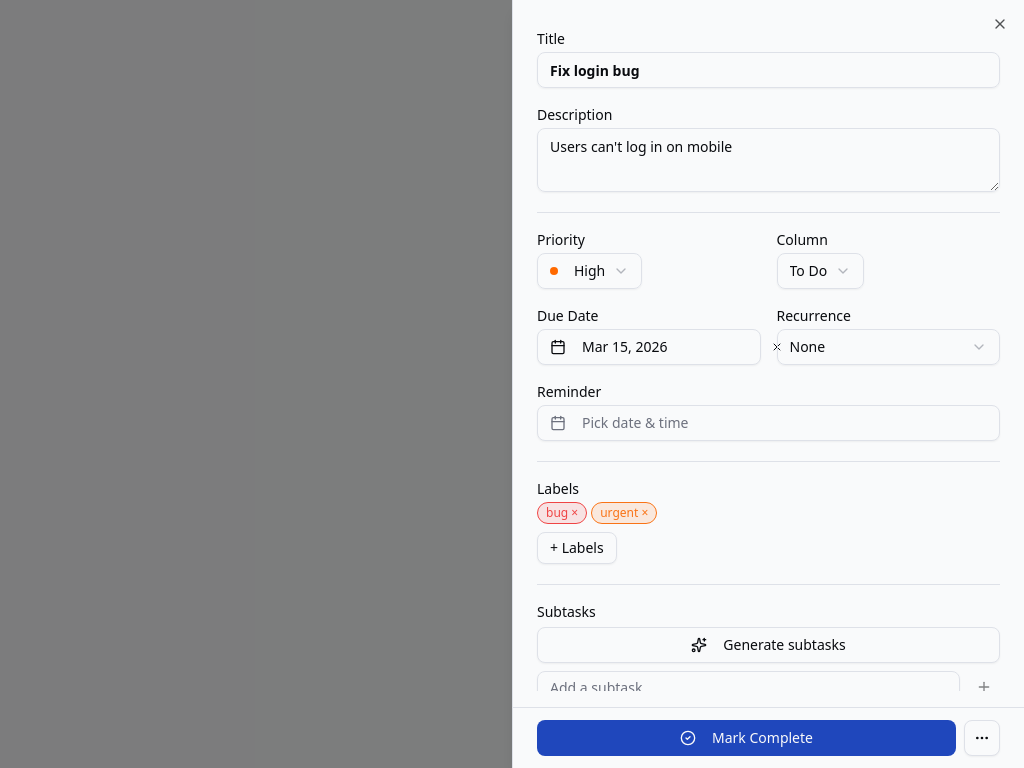
TaskSheet › AI subtask generation › adds generated subtasks to task via dialog flow
# Open the dialog
Click the button "Generate subtasks" at (768, 645), box top-left (537, 627), bottom-right (1000, 663)
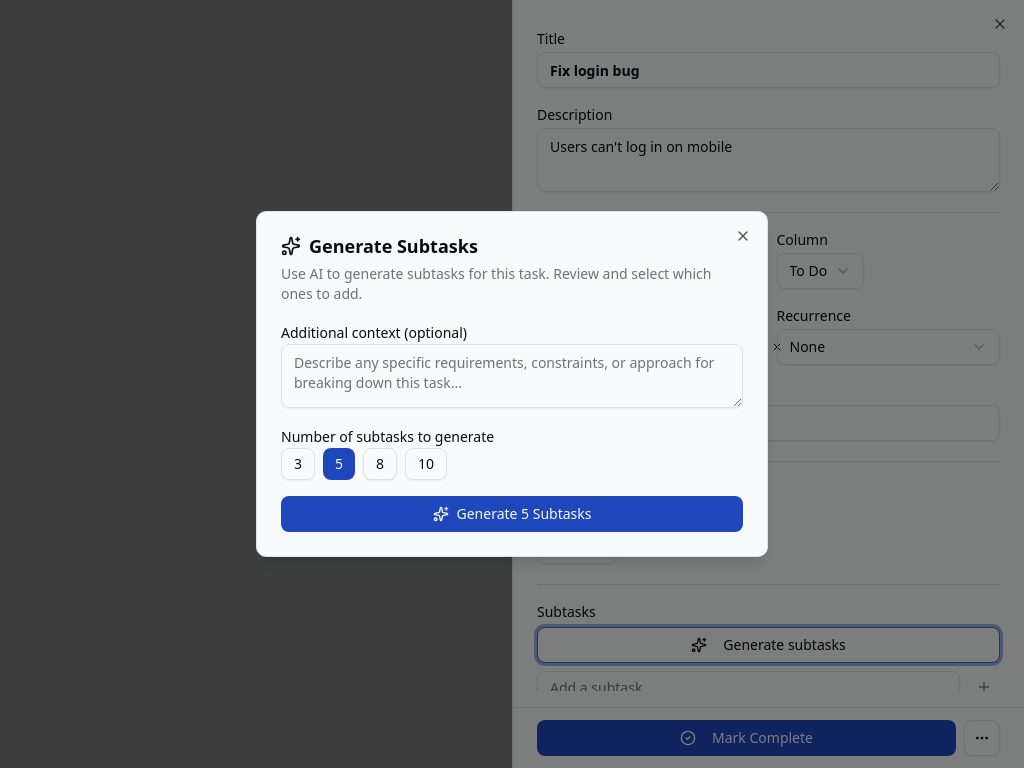
Check: the button "Generate 5 Subtasks" is shown
Click the button "Generate 5 Subtasks" at (512, 514), box top-left (281, 496), bottom-right (743, 532)
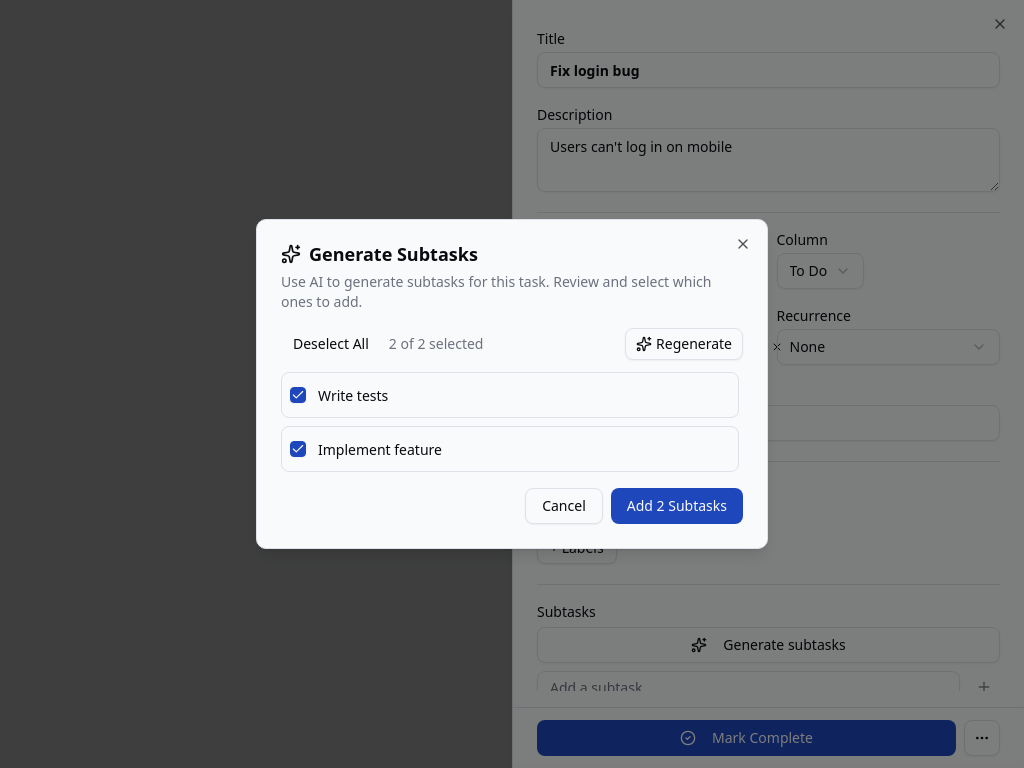
Check: the button "Add 2 Subtasks" is shown
Click the button "Add 2 Subtasks" at (677, 506), box top-left (611, 488), bottom-right (743, 524)
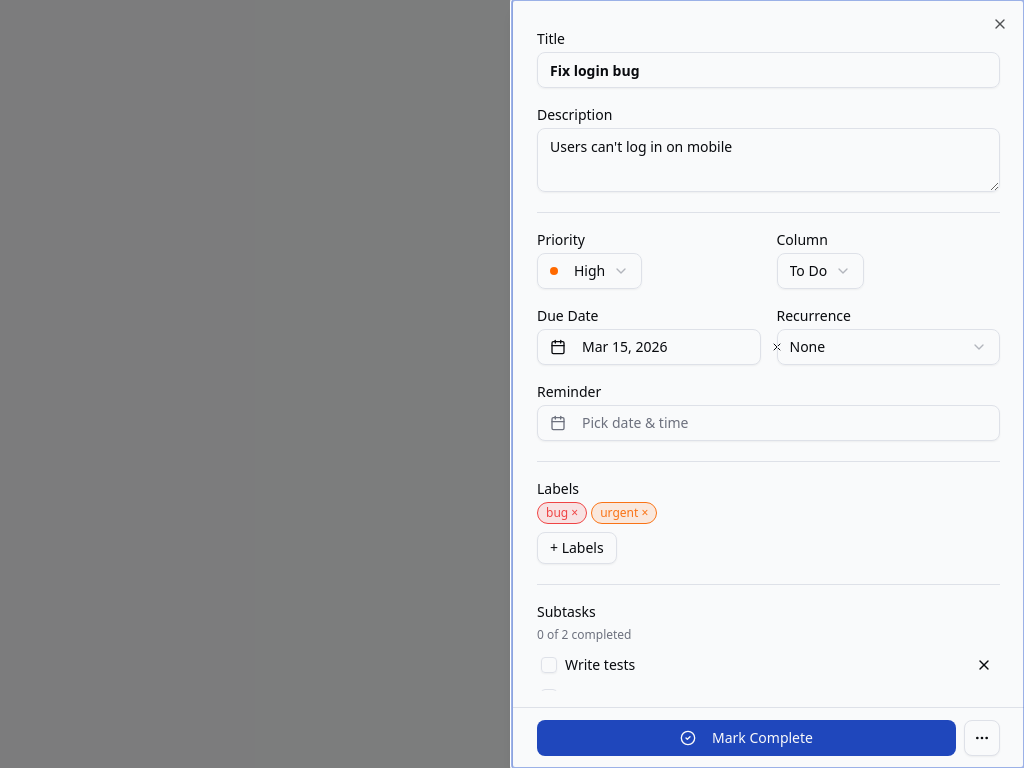
Check: the text "Write tests" is shown, box top-left (565, 655), bottom-right (635, 674)
